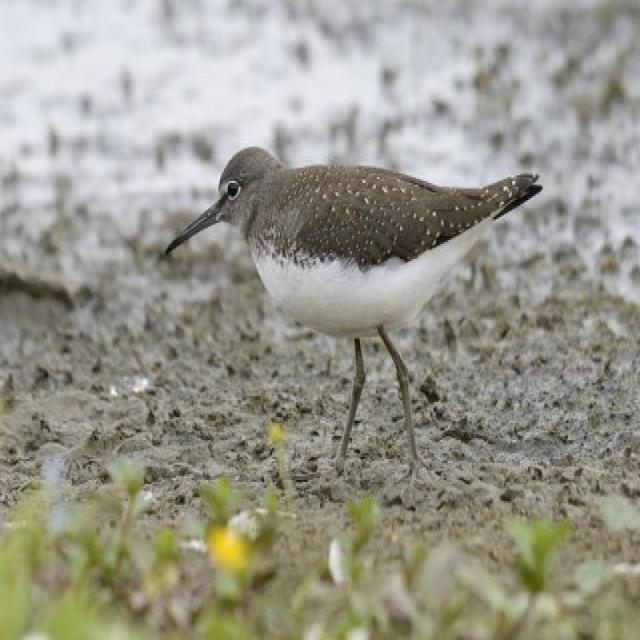sandpiper: (165, 147, 541, 469)
